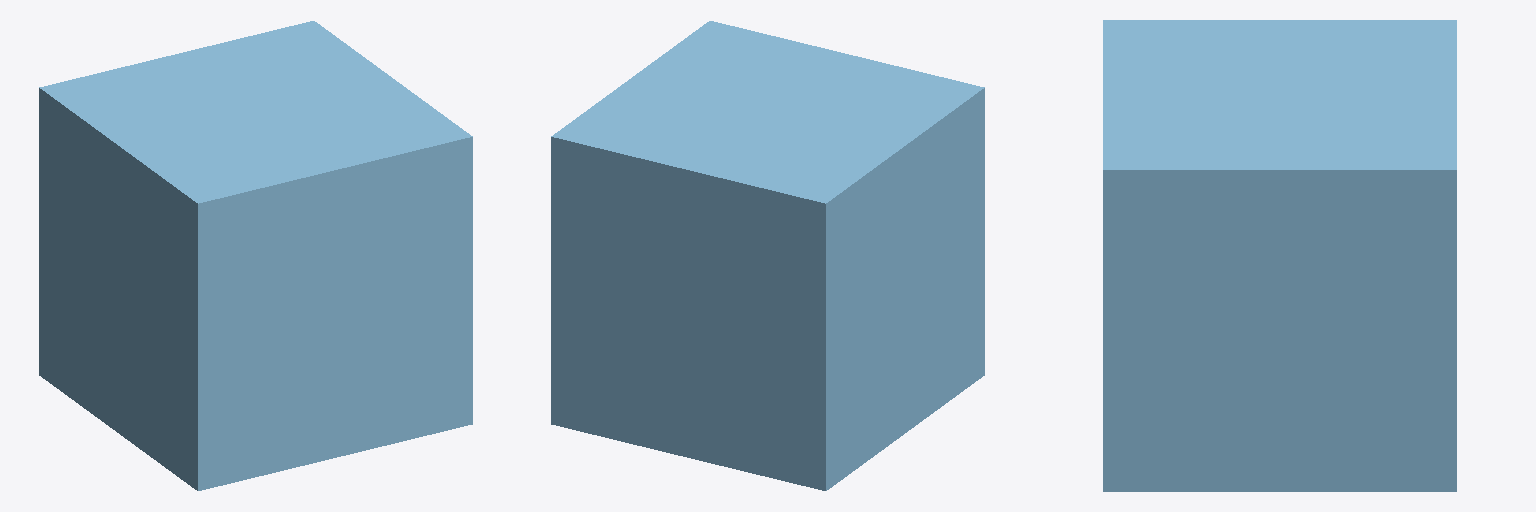
URDF robot description (assembly_1):
<?xml version='1.0' encoding='utf-8'?>
<robot name="assembly_1">
  <link name="world"></link>
  <joint name="floating_base_joint" type="floating">
    <parent link="world"/>
    <child link="link_part_1_1"/>
  </joint>
  <link name="link_part_1_1">
    <visual>
      <origin xyz="0 0 0" rpy="0 0 0" />
      <geometry>
        <mesh filename="./meshes/part_1_1.stl" />
        </geometry>
      <material name="link_part_1_1_material">
        <color rgba="0.61568627 0.81176471 0.92941176 1" />
        </material>
      </visual>
    <collision>
      <origin xyz="0 0 0" rpy="0 0 0" />
      <geometry>
        <mesh filename="./meshes/part_1_1.stl" />
        </geometry>
      </collision>
    <inertial>
      <mass value="0.001" />
      <inertia ixx="1.6666667e-06" iyy="1.6666667e-06" izz="1.6666667e-06" ixy="0" ixz="0" iyz="0" />
      <origin xyz="0 0 0" rpy="3.1415927 0 3.1415927" />
      </inertial>
    </link>
  </robot>

--- What the picture shows (computed from the rendered views, not written in the file) ---
3 views of the same robot in one strip: view 1: azimuth 30°, elevation 25°; view 2: azimuth 150°, elevation 25°; view 3: azimuth 270°, elevation 25° (orthographic).
Robot: assembly_1 — 2 links, 1 joints (1 floating); root link world; default pose: every joint at zero.
Visible links, largest first — view 1: link_part_1_1; view 2: link_part_1_1; view 3: link_part_1_1.
Boxes of the visible links, x1,y1,x2,y2 form: link_part_1_1: (39,21,472,490); link_part_1_1: (551,21,984,490); link_part_1_1: (1103,20,1456,491).
Size in the robot's own frame: 0.1 by 0.1 by 0.1 metres.
1 mesh visuals loaded from 1 distinct referenced files (1 binary STL).